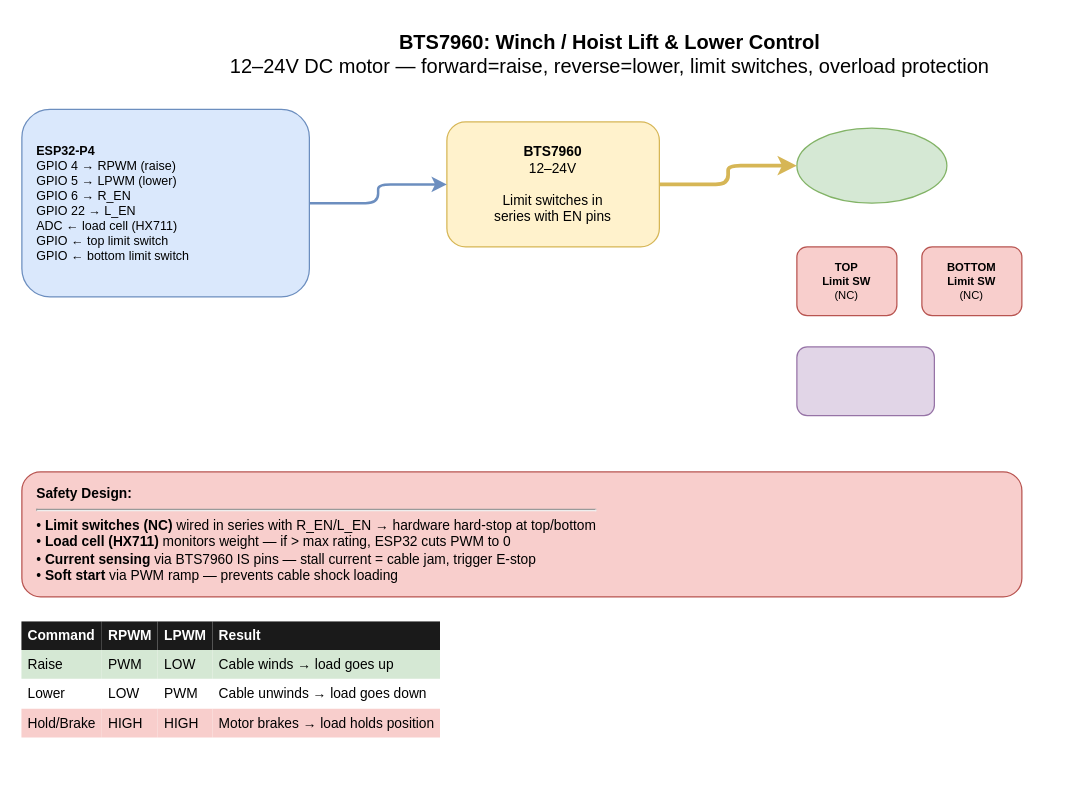
The diagram is 1069 pixels wide and 793 high, and some of its shapes have lost their labels. The centre of each missing label's shape, as x and y in pixels:
Load Cell (HX711) → overload detect: (x=865, y=381)
Winch Motor: (x=871, y=165)
